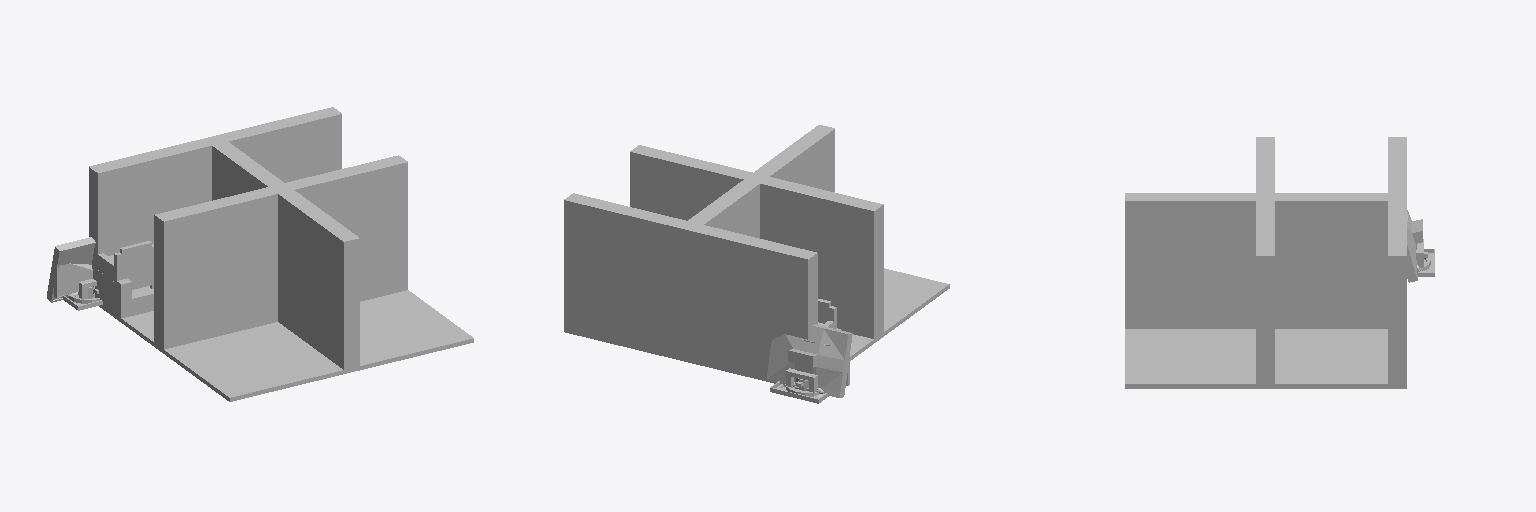
The model's file is Models.obj.
3 renders of one model, left to right at view 1: azimuth 30°, elevation 25°; view 2: azimuth 150°, elevation 25°; view 3: azimuth 270°, elevation 25°, orthographic.
Visible parts, largest first — view 1: WallPlus, Floor, WallWindowBig, WallDoor, WallWindowSmall, WallCorner, Crib, Couch, WallT, WallTV, MonitorFancyScreen; view 2: WallPlus, WallWindowBig, WallT, WallWindowSmall, WallCorner, WallTV, Floor, WallDoor, Crib, Couch; view 3: WallPlus, Floor, WallCorner, WallT, WallWindowBig, WallWindowSmall, WallTV.
Part boxes in pixels (x1,y1,x2,y2): WallPlus: (154, 135, 407, 369); Floor: (99, 290, 473, 401); WallWindowBig: (89, 107, 341, 257); WallDoor: (98, 115, 341, 254); WallWindowSmall: (98, 114, 341, 254); WallCorner: (90, 136, 291, 254); Crib: (89, 236, 153, 289); Couch: (93, 248, 153, 318); WallT: (98, 115, 338, 252); WallTV: (47, 237, 95, 302); MonitorFancyScreen: (58, 263, 92, 296); WallPlus: (630, 125, 883, 357); WallWindowBig: (564, 193, 817, 373); WallT: (564, 179, 807, 375); WallWindowSmall: (564, 201, 807, 375); WallCorner: (678, 180, 815, 374); WallTV: (766, 324, 852, 397); Floor: (564, 268, 949, 383); WallDoor: (564, 201, 807, 372); Crib: (768, 299, 836, 352); Couch: (727, 317, 840, 376); WallPlus: (1125, 137, 1406, 383); Floor: (1125, 329, 1406, 388); WallCorner: (1256, 137, 1406, 328); WallT: (1265, 194, 1387, 328); WallWindowBig: (1388, 137, 1406, 383); WallWindowSmall: (1388, 256, 1406, 383); WallTV: (1407, 210, 1422, 282).
Size of the model in its own units: 6.9 by 3.2 by 6.6.